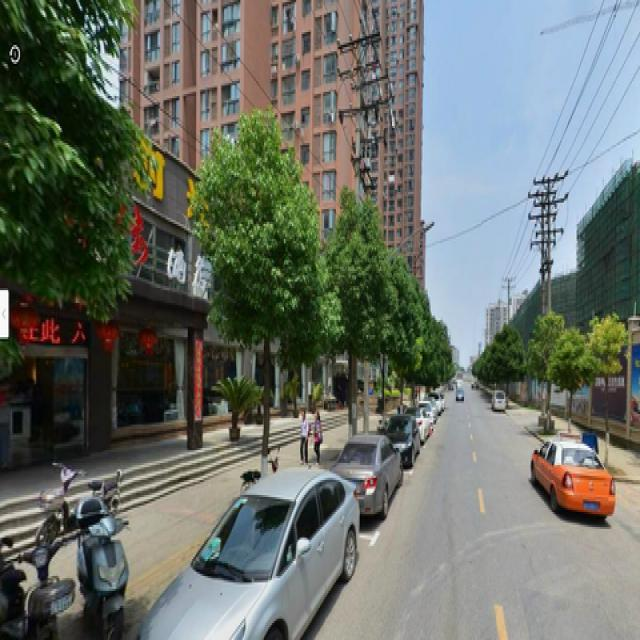cinn: (207, 128, 317, 465), (336, 207, 379, 433)
